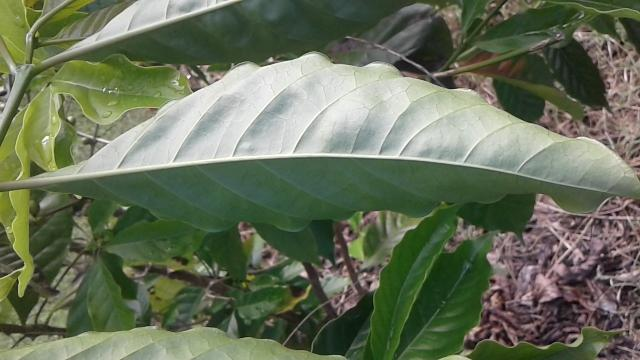healthy: (29, 52, 640, 233)
